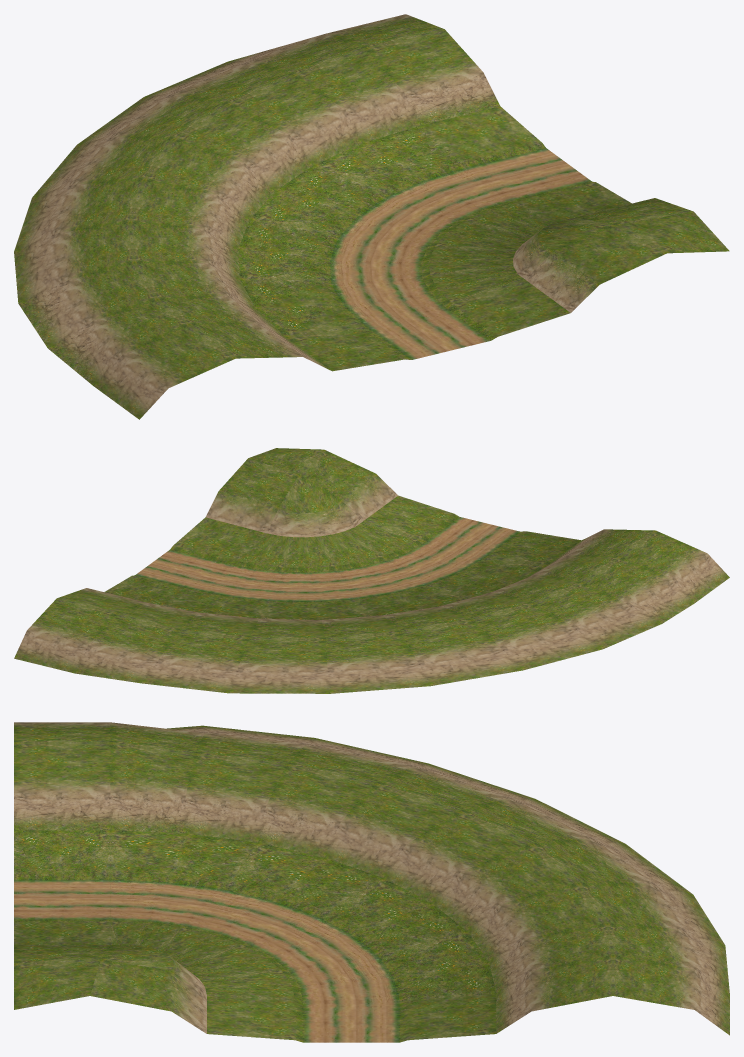
Rendered from Ground_CurveRight.FBX.
The picture shows the model from 3 angles, top to bottom: view 1: azimuth 30°, elevation 25°; view 2: azimuth 150°, elevation 25°; view 3: azimuth 270°, elevation 25°; orthographic projection. The views are drawn at different scales.
Visible parts, largest first — view 1: Ground_CurveRight; view 2: Ground_CurveRight; view 3: Ground_CurveRight.
Boxes of the visible parts, bbox=[...] form: Ground_CurveRight: bbox=[14, 14, 729, 419]; Ground_CurveRight: bbox=[14, 448, 729, 693]; Ground_CurveRight: bbox=[14, 722, 729, 1042].
Size of the model in its own units: 4103 by 294 by 4091.
